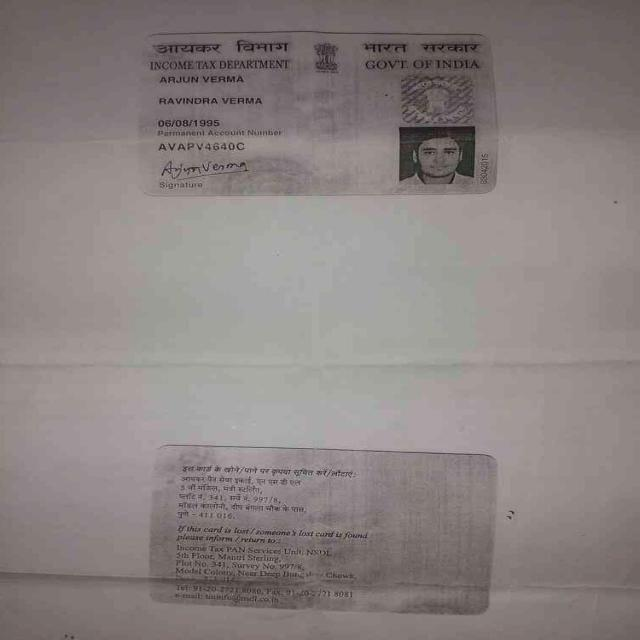pan_card: (148, 440, 494, 612), (140, 32, 494, 196)
